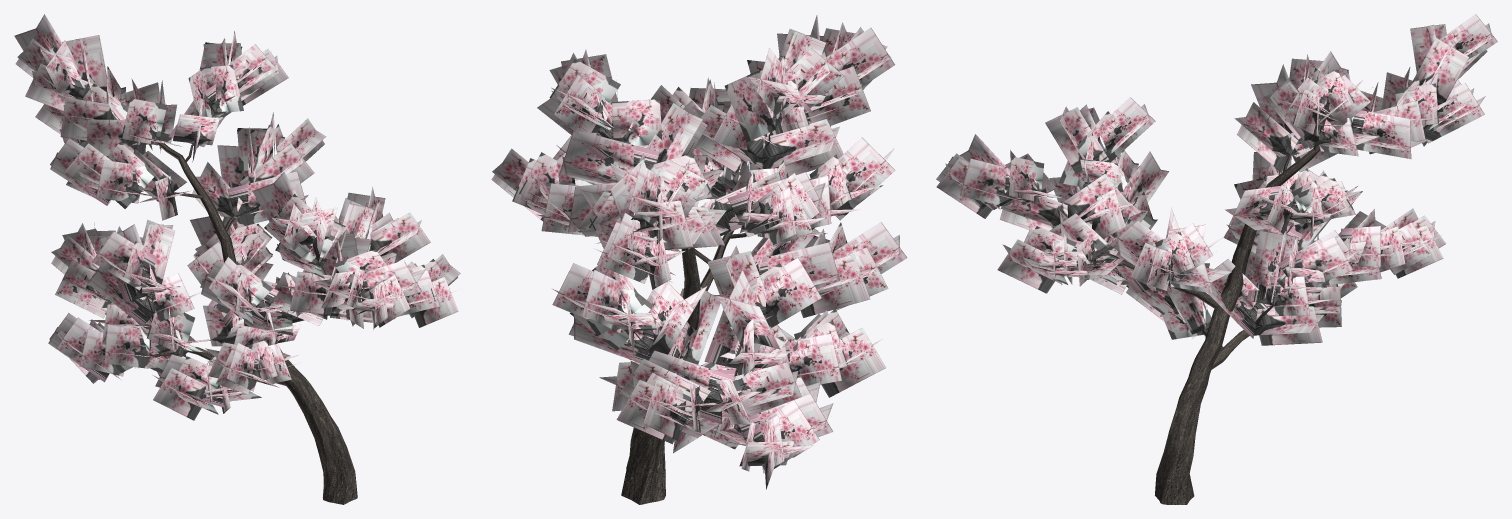
File: sakura2.gltf
3 renders of one model, left to right at view 1: azimuth 30°, elevation 25°; view 2: azimuth 150°, elevation 25°; view 3: azimuth 270°, elevation 25°, orthographic. The views are drawn at different scales.
Parts seen in each view (by area): view 1: sakura2; view 2: sakura2; view 3: sakura2.
Boxes of the visible parts, x1,y1,x2,y2 form: sakura2: (14,14,460,504); sakura2: (491,15,907,504); sakura2: (936,14,1497,504).
Size of the model in its own units: 9.17 by 12.55 by 15.32.
2 materials, 2 textured.
